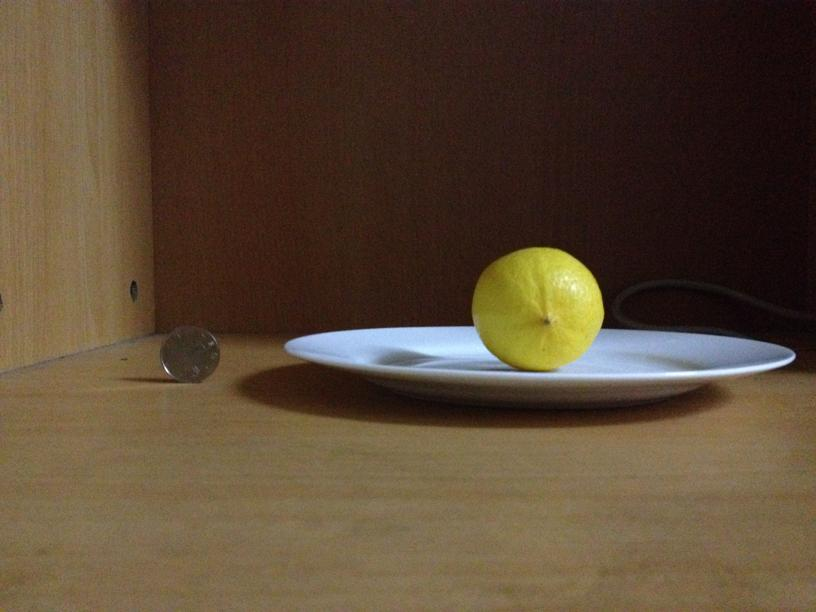coin: (158, 323, 221, 382)
lemon: (473, 243, 603, 370)
